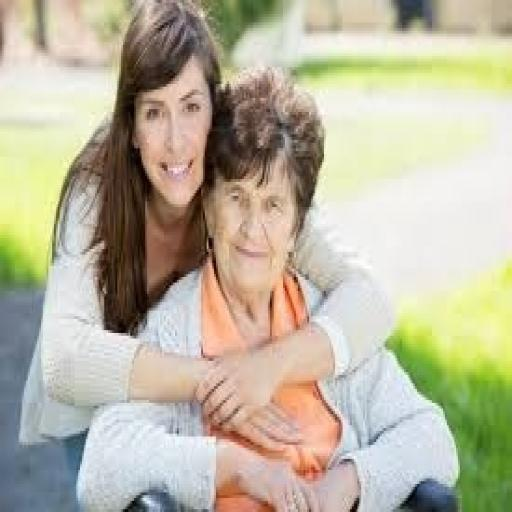hugging: (18, 0, 462, 509)
